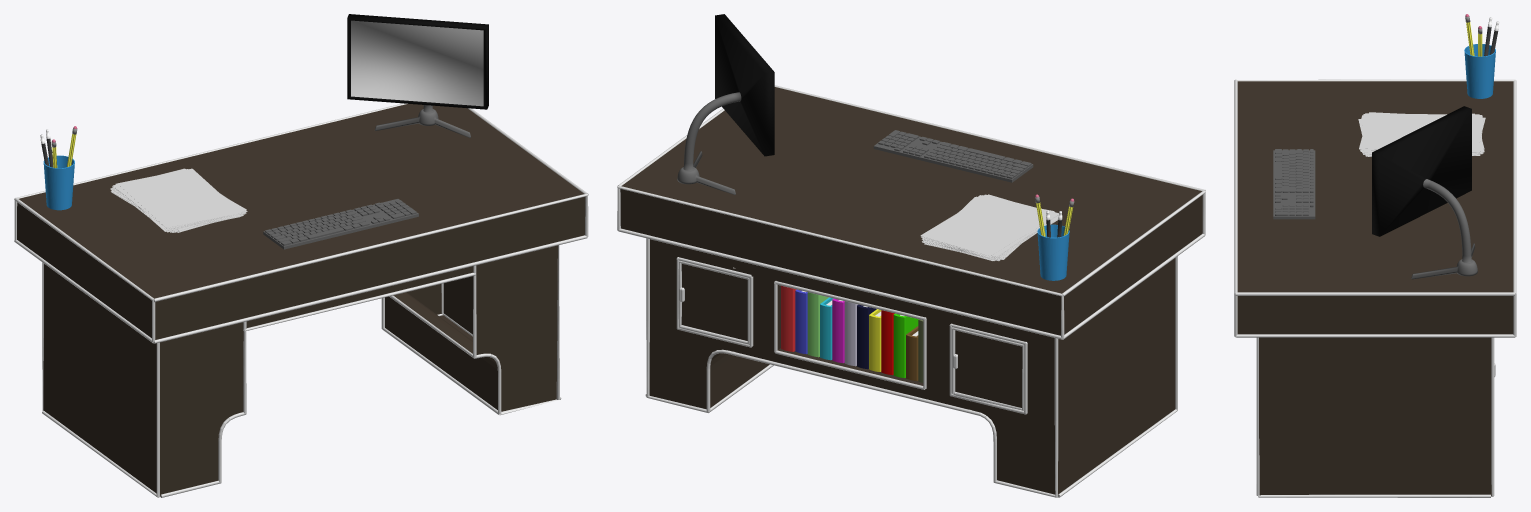
File: 5th-Level Doctor Table With Outline.fbx
The picture shows the model from 3 angles, left to right: view 1: azimuth 30°, elevation 25°; view 2: azimuth 150°, elevation 25°; view 3: azimuth 270°, elevation 25°; orthographic projection. The views are drawn at different scales.
Visible parts, largest first — view 1: Table; view 2: Table; view 3: Table.
Part boxes in pixels (box(x1,y1,x2,y2)): Table: box(14, 14, 588, 497); Table: box(617, 14, 1205, 497); Table: box(1234, 14, 1516, 497).
Bounding box in the file's own units: 436 × 320 × 243.
